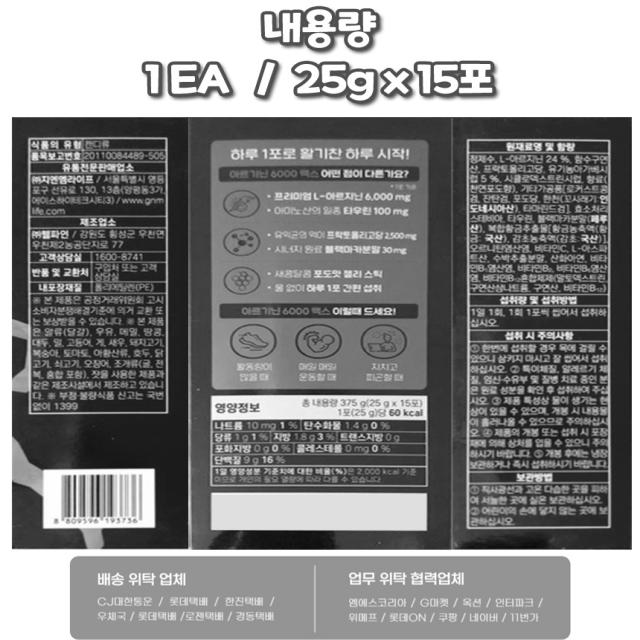Nutrition Label: (205, 392, 433, 500)
